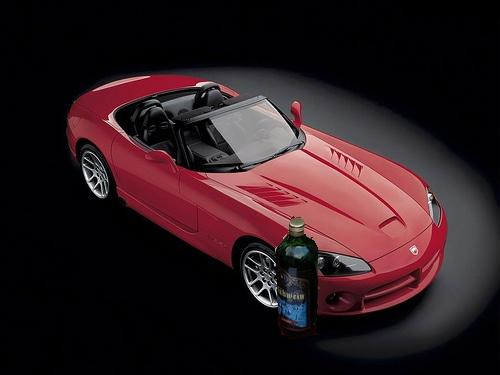tampered: (276, 217, 318, 339)
